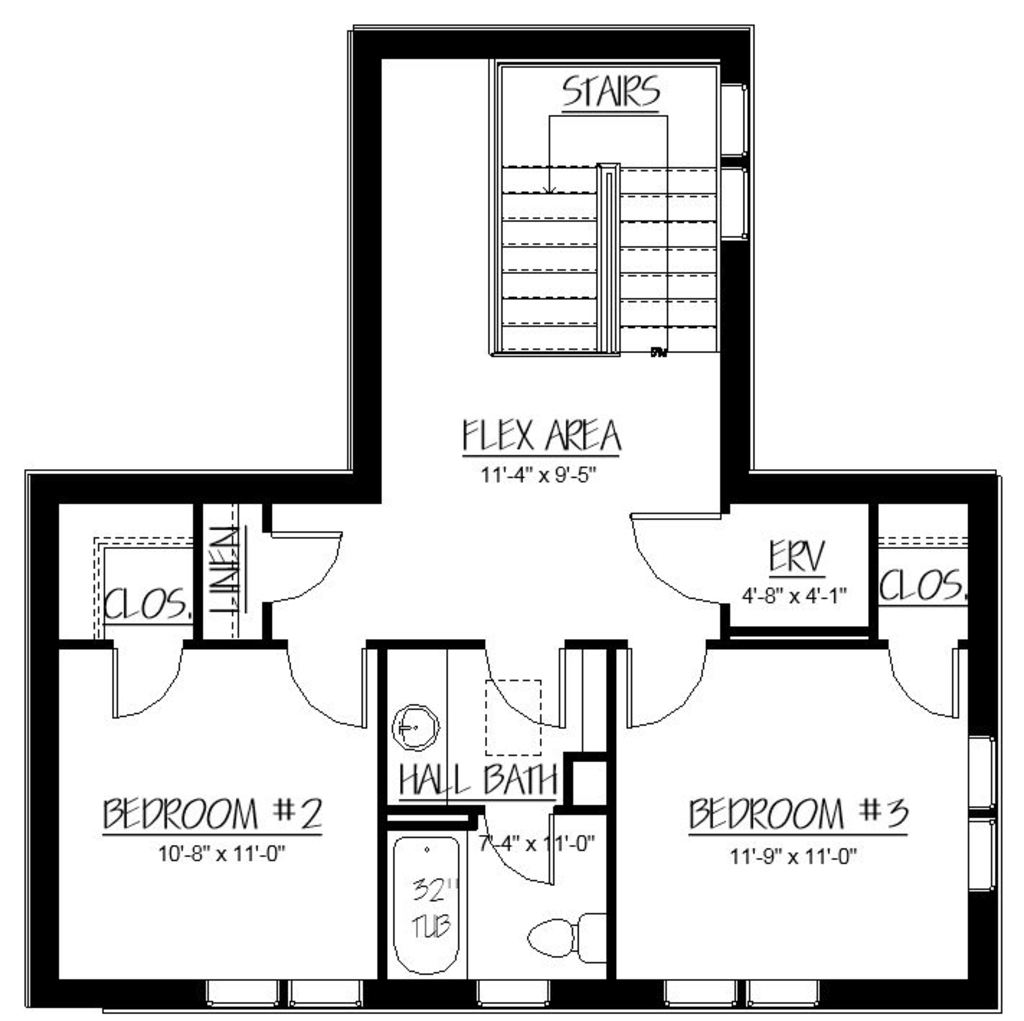door: (620, 495, 731, 615), (284, 645, 381, 745), (484, 641, 575, 746), (475, 799, 566, 893), (108, 635, 191, 734), (259, 520, 347, 612), (622, 640, 708, 729), (877, 638, 963, 720)
large_sink: (513, 906, 613, 970)
small_sink: (388, 648, 447, 795)
stairs: (483, 52, 713, 373)
tub: (389, 831, 470, 977)
window: (716, 160, 753, 245), (663, 973, 738, 1013), (291, 974, 366, 1013), (719, 79, 753, 163), (200, 977, 286, 1009), (742, 974, 820, 1007), (478, 979, 555, 1010), (966, 813, 994, 893), (966, 735, 992, 813)
